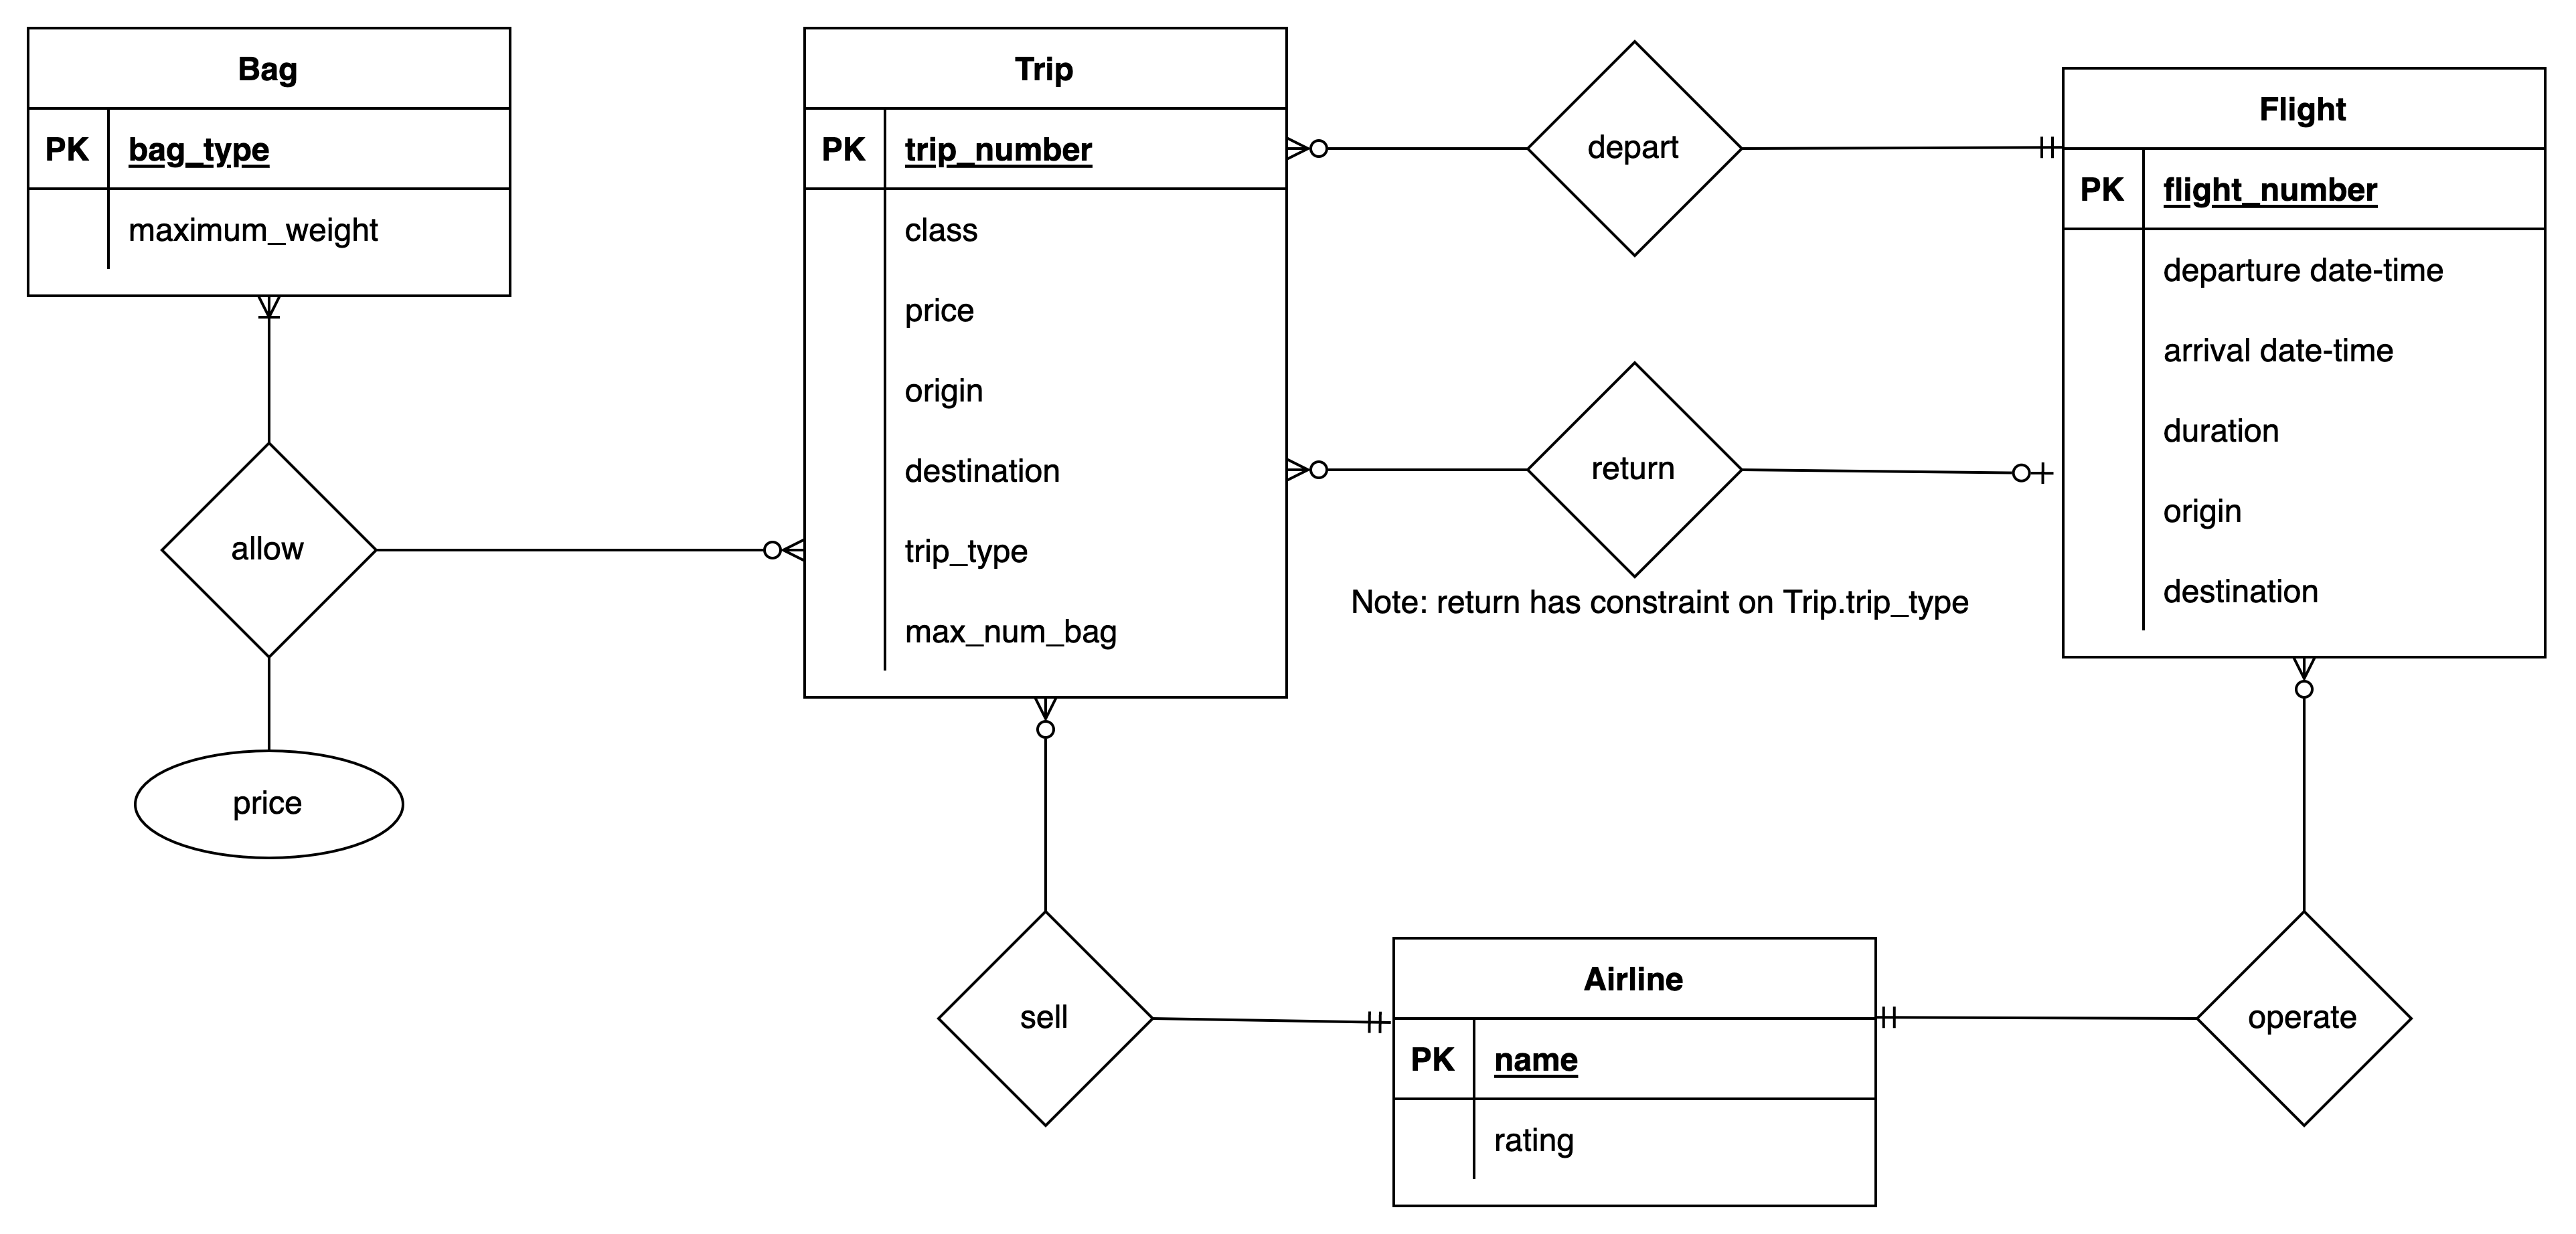entity: (802, 30, 1290, 697), (2060, 69, 2545, 659), (26, 25, 513, 296), (1391, 937, 1873, 1206)
many: (1285, 118, 1341, 177), (1020, 693, 1074, 751), (1285, 444, 1342, 498), (2277, 657, 2334, 711), (747, 523, 803, 573), (246, 296, 294, 332)
one: (1994, 444, 2060, 500), (1874, 996, 1929, 1047), (1345, 1006, 1398, 1040), (2024, 125, 2062, 173)
rel: (1525, 353, 1741, 580), (2193, 914, 2412, 1129), (936, 912, 1155, 1126), (1529, 43, 1741, 260), (159, 444, 373, 657)
rel_attr: (136, 748, 407, 863)
